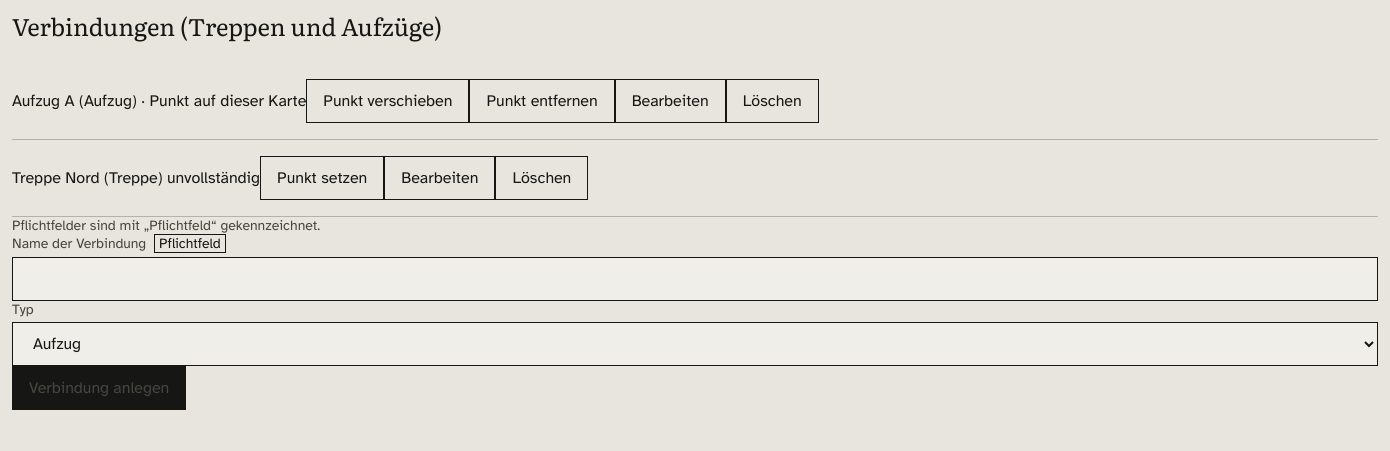
Test: ConnectionCatalog › shows the server message when the name is already taken
This screenshot has width=1390, height=451.
Type "Aufzug A" into the field labelled "Name der Verbindung" at (695, 279), box [12,257,1378,301]
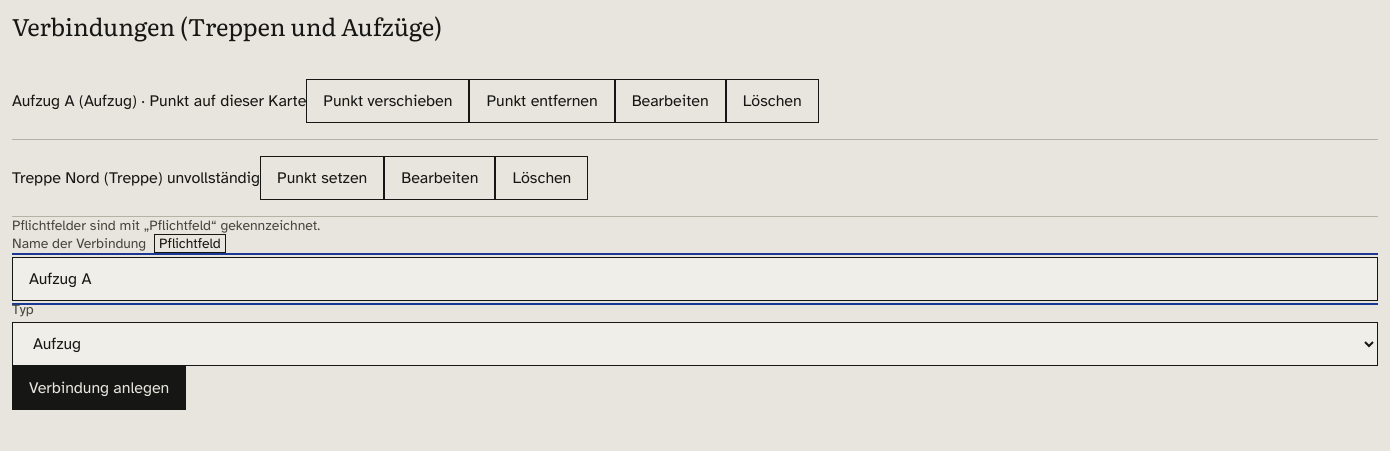
Click the button "Verbindung anlegen" at (99, 388), box [12,366,186,410]
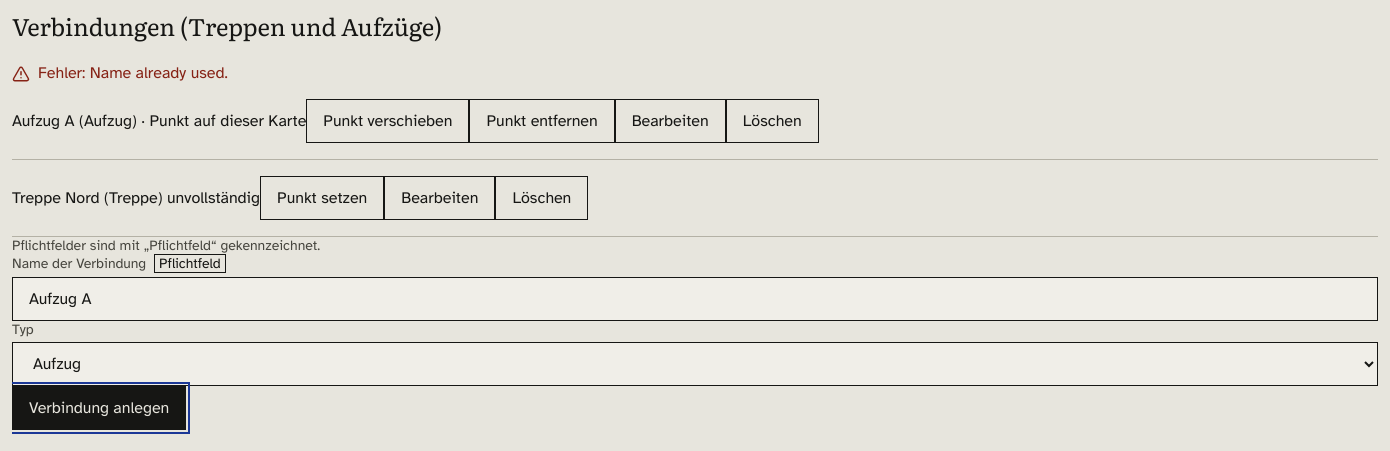
Now the message shows "Name already used.", box [90,63,228,83]
